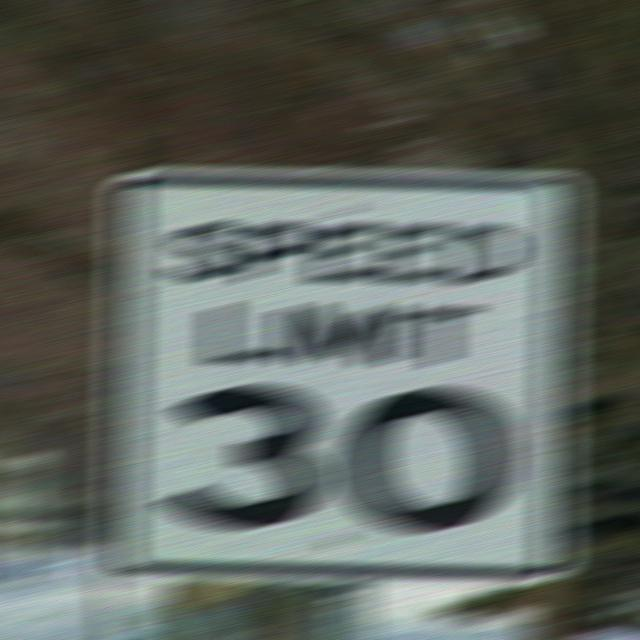speedLimit35: (106, 171, 574, 568)
